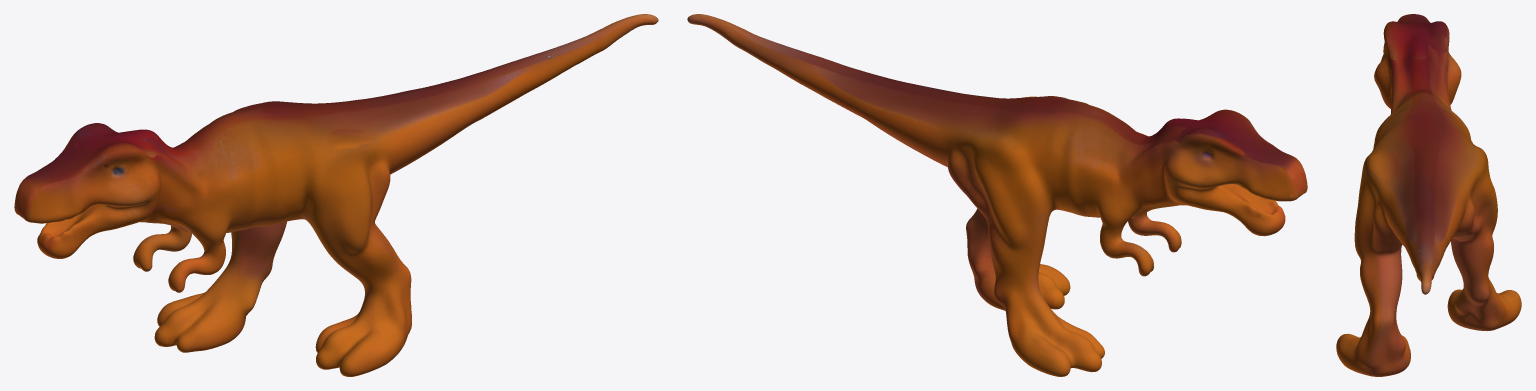
File: dragon_1.glb
3 views of the same model, side by side, from view 1: azimuth 30°, elevation 25°; view 2: azimuth 150°, elevation 25°; view 3: azimuth 270°, elevation 25° (orthographic). The views are drawn at different scales.
Visible parts, largest first — view 1: texture_v100.001; view 2: texture_v100.001; view 3: texture_v100.001.
Part boxes in pixels (x1,y1,x2,y2): texture_v100.001: (14,14,658,376); texture_v100.001: (687,14,1307,376); texture_v100.001: (1336,14,1521,376).
Size of the model in its own units: 1.14 by 0.4475 by 0.3142.
1 material, 1 textured.
